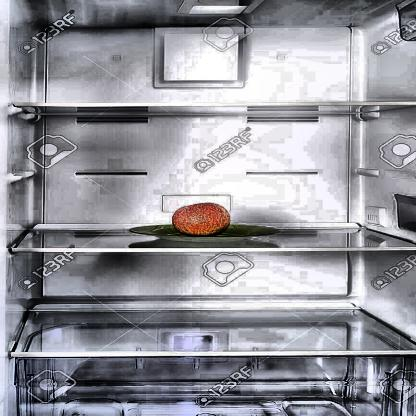apple: (174, 202, 231, 237)
